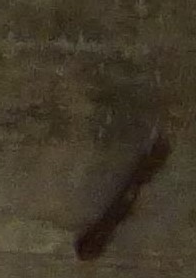Exposed reinforcement: (73, 143, 168, 261)
